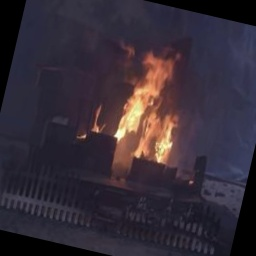fire: (93, 43, 196, 170)
